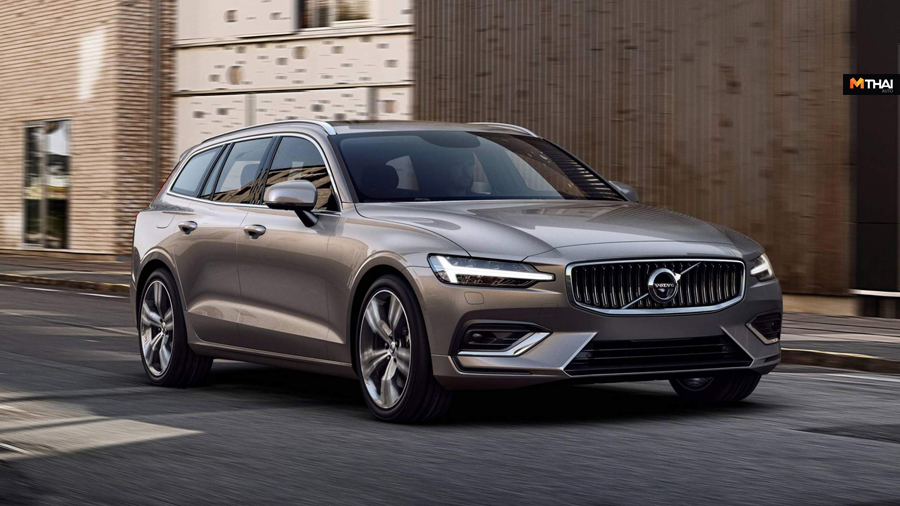sedan: (128, 112, 789, 418)
